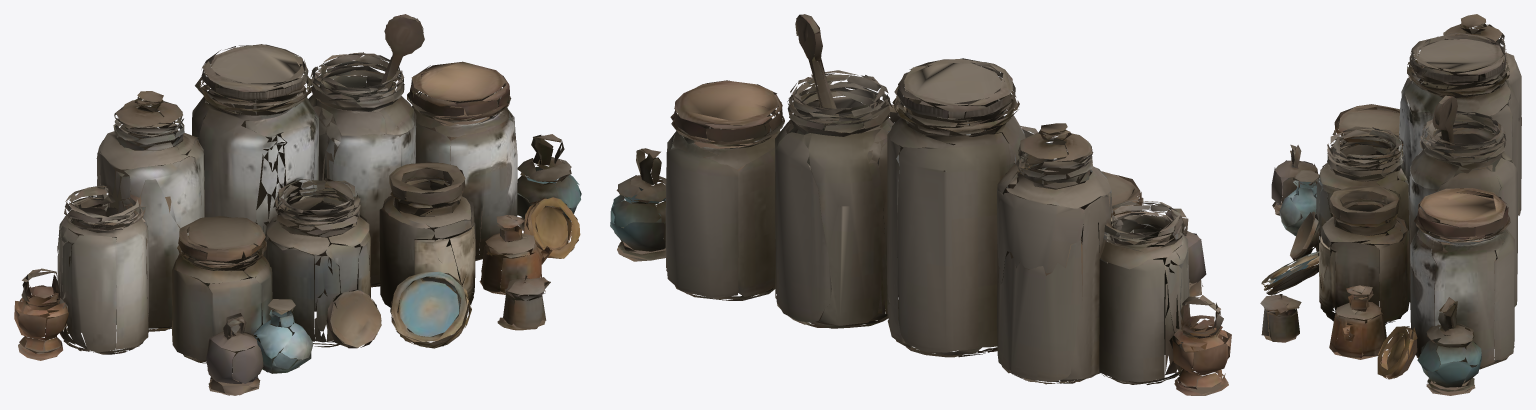
Rendered from jars_lod0.glb.
3 renders of one model, left to right at view 1: azimuth 30°, elevation 25°; view 2: azimuth 150°, elevation 25°; view 3: azimuth 270°, elevation 25°, orthographic. The views are drawn at different scales.
Parts seen in each view (by area): view 1: node_0; view 2: node_0; view 3: node_0.
Part boxes in pixels (x1,y1,x2,y2): node_0: (14,14,581,395); node_0: (610,14,1231,395); node_0: (1260,14,1521,395).
Bounding box in the file's own units: 2.35 × 1 × 1.05.
1 material, 1 textured.
